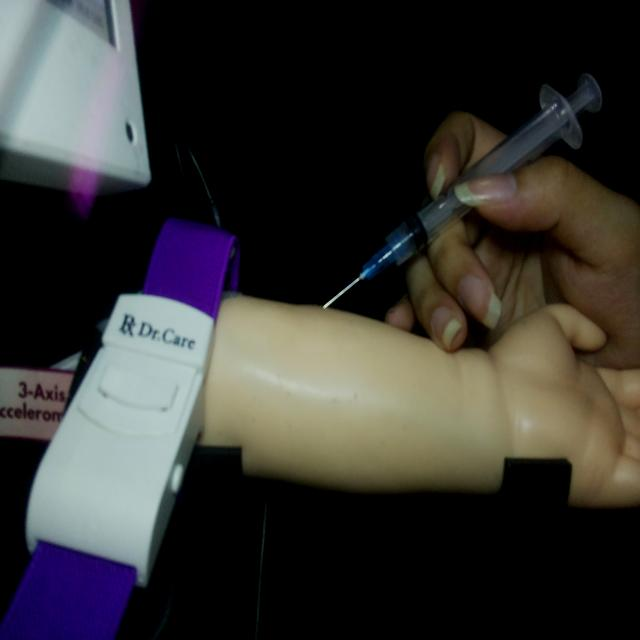28 degrees: (321, 68, 604, 312)
